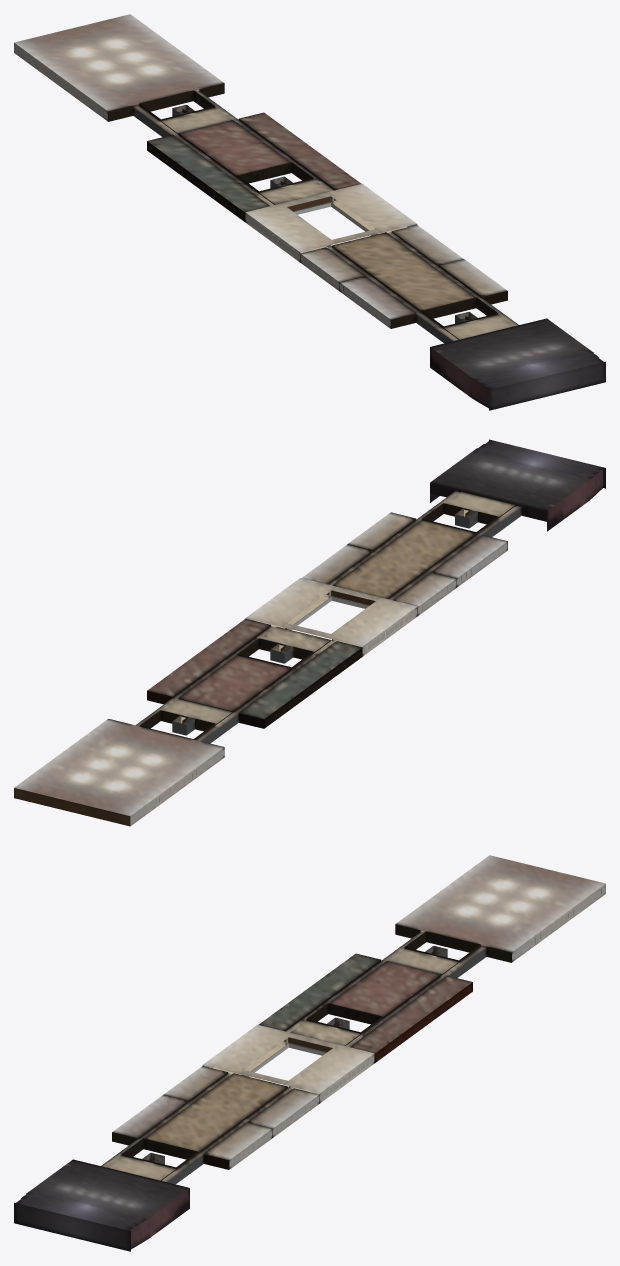
File: deck6.glb
The picture shows the model from 3 angles, top to bottom: view 1: azimuth 30°, elevation 25°; view 2: azimuth 150°, elevation 25°; view 3: azimuth 330°, elevation 25°; orthographic projection.
Visible parts, largest first — view 1: kr_decke, kr_stoff, kr_holz, kr_wand, kr_glas; view 2: kr_decke, kr_stoff, kr_holz, kr_wand, kr_glas, kr_marmor; view 3: kr_decke, kr_stoff, kr_holz, kr_wand, kr_glas.
Boxes of the visible parts, x1,y1,x2,y2 form: kr_decke: [14, 14, 518, 341]; kr_stoff: [51, 72, 605, 410]; kr_holz: [18, 48, 507, 339]; kr_wand: [14, 43, 516, 343]; kr_glas: [14, 45, 415, 325]; kr_decke: [14, 491, 520, 815]; kr_stoff: [159, 439, 605, 797]; kr_holz: [14, 503, 515, 826]; kr_wand: [130, 491, 521, 826]; kr_glas: [131, 543, 507, 822]; kr_marmor: [181, 509, 477, 724]; kr_decke: [101, 855, 605, 1182]; kr_stoff: [14, 913, 568, 1251]; kr_holz: [112, 889, 601, 1180]; kr_wand: [103, 884, 605, 1184]; kr_glas: [204, 886, 605, 1166].
Bounding box in the file's own units: 34.44 × 5.8 × 242.
